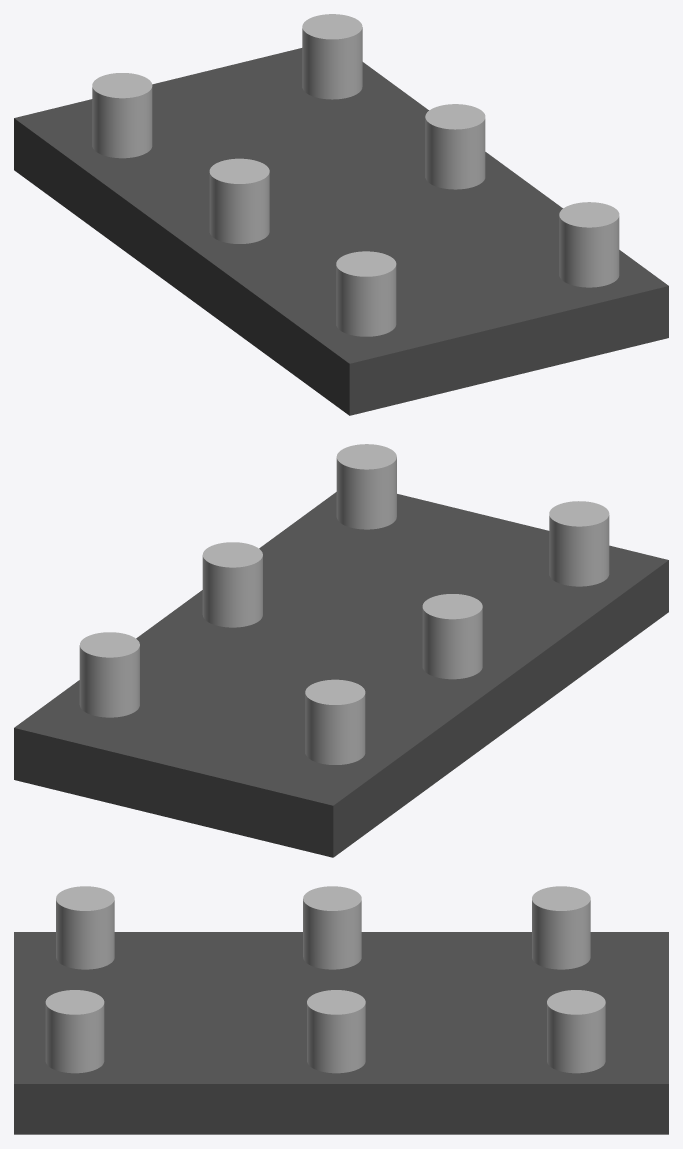
The model's file is workpiece.glb.
The picture shows the model from 3 angles, top to bottom: view 1: azimuth 30°, elevation 25°; view 2: azimuth 150°, elevation 25°; view 3: azimuth 270°, elevation 25°; orthographic projection. The views are drawn at different scales.
Parts seen in each view (by area): view 1: mesh_id64, mesh_id79, mesh_id61, mesh_id59, mesh_id62, mesh_id80, mesh_id63, mesh_id116, mesh_id82, mesh_id106, mesh_id122, mesh_id100 (+1 smaller); view 2: mesh_id64, mesh_id61, mesh_id79, mesh_id59, mesh_id62, mesh_id80, mesh_id63, mesh_id122, mesh_id116, mesh_id106, mesh_id82, mesh_id100 (+1 smaller); view 3: mesh_id80, mesh_id62, mesh_id63, mesh_id64, mesh_id59, mesh_id79, mesh_id61, mesh_id122, mesh_id94, mesh_id82, mesh_id116, mesh_id106 (+1 smaller).
Boxes of the visible parts, x1,y1,x2,y2 form: mesh_id64: (14,106,399,415); mesh_id79: (196,62,580,371); mesh_id61: (152,73,533,382); mesh_id59: (235,52,619,361); mesh_id62: (152,84,489,393); mesh_id80: (284,48,668,349); mesh_id63: (64,99,449,403); mesh_id116: (425,104,485,189); mesh_id82: (302,14,362,99); mesh_id106: (336,251,396,336); mesh_id122: (559,202,619,287); mesh_id100: (209,158,269,243); mesh_id64: (283,548,668,857); mesh_id61: (149,515,532,824); mesh_id79: (102,504,487,812); mesh_id59: (63,494,445,801); mesh_id62: (193,526,549,833); mesh_id80: (14,492,398,791); mesh_id63: (233,545,618,845); mesh_id122: (336,444,396,529); mesh_id116: (202,542,262,627); mesh_id106: (549,501,609,586); mesh_id82: (79,632,139,717); mesh_id100: (422,594,482,679); mesh_id80: (14,1060,668,1134); mesh_id62: (14,974,668,998); mesh_id63: (14,955,668,979); mesh_id64: (14,932,668,955); mesh_id59: (14,1036,668,1060); mesh_id79: (14,1018,668,1041); mesh_id61: (14,996,668,1018); mesh_id122: (45,990,104,1073); mesh_id94: (532,886,590,969); mesh_id82: (547,990,605,1073); mesh_id116: (307,990,365,1073); mesh_id106: (56,886,114,969).
Size of the model in its own units: 0.6607 by 0.2216 by 1.2.
Materials: 13 (13 with a texture image).
